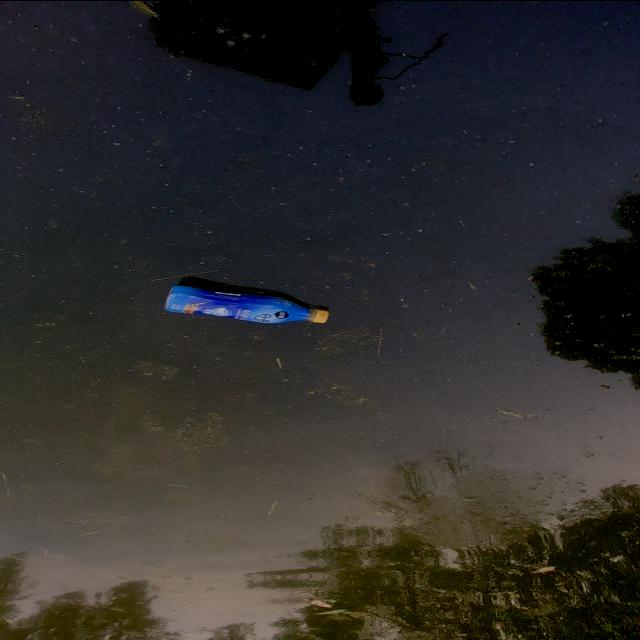bottle: (125, 256, 352, 344)
